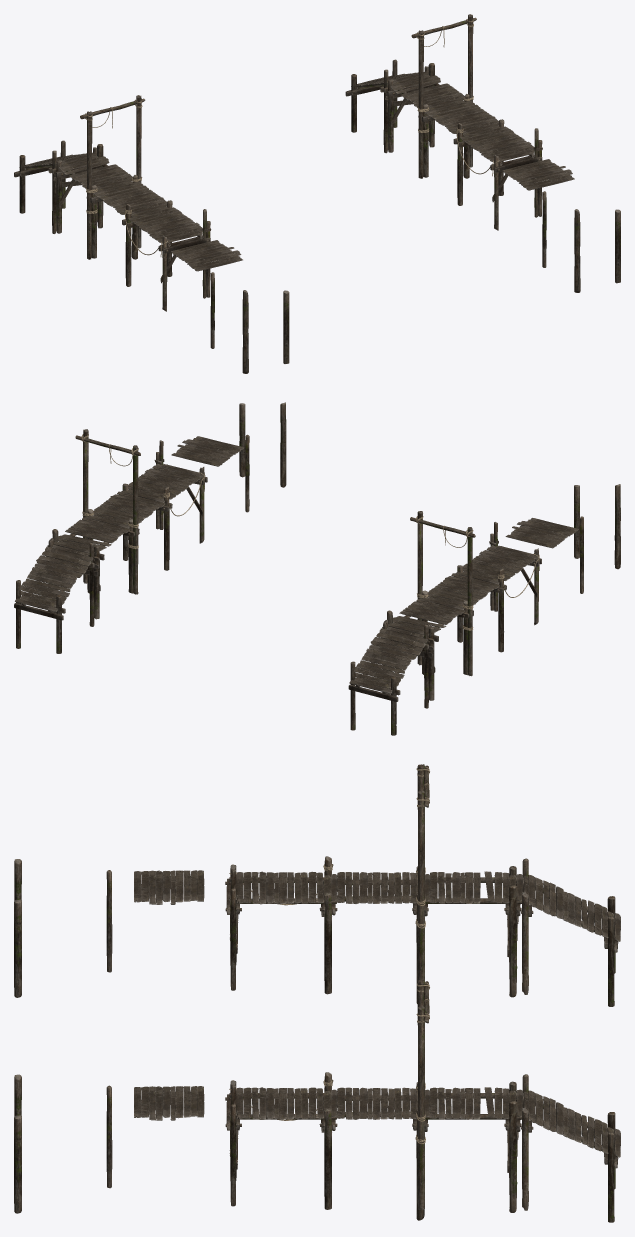
The model's file is pier.glb.
3 renders of one model, top to bottom at view 1: azimuth 30°, elevation 25°; view 2: azimuth 150°, elevation 25°; view 3: azimuth 270°, elevation 25°, orthographic. The views are drawn at different scales.
Visible parts, largest first — view 1: modular_wooden_pier_section_01.002, modular_wooden_pier_section_01.001, modular_wooden_pier_section_03.001, modular_wooden_pier_section_03.002, modular_wooden_pier_section_02.001, modular_wooden_pier_section_02.002, modular_wooden_pier_section_05.001, modular_wooden_pier_section_05.002, modular_wooden_pier_section_04.002, modular_wooden_pier_poles.002, modular_wooden_pier_section_04.001, modular_wooden_pier_poles.001 (+2 smaller); view 2: modular_wooden_pier_section_04.002, modular_wooden_pier_section_04.001, modular_wooden_pier_section_01.001, modular_wooden_pier_section_01.002, modular_wooden_pier_section_03.002, modular_wooden_pier_section_03.001, modular_wooden_pier_section_02.002, modular_wooden_pier_section_02.001, modular_wooden_pier_section_05.002, modular_wooden_pier_section_05.001, modular_wooden_pier_poles.001, modular_wooden_pier_planks.001 (+2 smaller); view 3: modular_wooden_pier_section_01.001, modular_wooden_pier_section_01.002, modular_wooden_pier_section_04.002, modular_wooden_pier_section_04.001, modular_wooden_pier_section_03.001, modular_wooden_pier_section_03.002, modular_wooden_pier_section_02.001, modular_wooden_pier_section_02.002, modular_wooden_pier_planks.001, modular_wooden_pier_planks.002, modular_wooden_pier_section_05.001, modular_wooden_pier_section_05.002 (+2 smaller).
Part boxes in pixels (x1,y1,x2,y2): modular_wooden_pier_section_01.002: [122, 200, 211, 311]; modular_wooden_pier_section_01.001: [453, 119, 542, 230]; modular_wooden_pier_section_03.001: [383, 63, 464, 152]; modular_wooden_pier_section_03.002: [52, 144, 132, 233]; modular_wooden_pier_section_02.001: [418, 94, 498, 178]; modular_wooden_pier_section_02.002: [86, 175, 167, 259]; modular_wooden_pier_section_05.001: [411, 14, 476, 178]; modular_wooden_pier_section_05.002: [80, 95, 145, 259]; modular_wooden_pier_section_04.002: [14, 140, 97, 233]; modular_wooden_pier_poles.002: [210, 272, 289, 373]; modular_wooden_pier_section_04.001: [345, 59, 429, 153]; modular_wooden_pier_poles.001: [542, 191, 620, 292]; modular_wooden_pier_section_04.002: [348, 619, 428, 735]; modular_wooden_pier_section_04.001: [14, 538, 94, 653]; modular_wooden_pier_section_01.001: [121, 440, 207, 570]; modular_wooden_pier_section_01.002: [455, 522, 541, 652]; modular_wooden_pier_section_03.002: [382, 599, 464, 700]; modular_wooden_pier_section_03.001: [47, 517, 130, 619]; modular_wooden_pier_section_02.002: [421, 573, 499, 675]; modular_wooden_pier_section_02.001: [87, 491, 165, 593]; modular_wooden_pier_section_05.002: [410, 511, 475, 676]; modular_wooden_pier_section_05.001: [75, 429, 140, 594]; modular_wooden_pier_poles.001: [239, 402, 286, 512]; modular_wooden_pier_planks.001: [171, 436, 244, 466]; modular_wooden_pier_section_01.001: [225, 1072, 337, 1209]; modular_wooden_pier_section_01.002: [225, 856, 337, 994]; modular_wooden_pier_section_04.002: [521, 858, 620, 1006]; modular_wooden_pier_section_04.001: [521, 1074, 620, 1222]; modular_wooden_pier_section_03.001: [416, 1081, 523, 1212]; modular_wooden_pier_section_03.002: [416, 866, 523, 997]; modular_wooden_pier_section_02.001: [323, 1082, 430, 1220]; modular_wooden_pier_section_02.002: [323, 866, 430, 1003]; modular_wooden_pier_planks.001: [134, 1086, 204, 1120]; modular_wooden_pier_planks.002: [134, 870, 204, 904]; modular_wooden_pier_section_05.001: [415, 980, 429, 1209]; modular_wooden_pier_section_05.002: [415, 764, 429, 981].
Size of the model in its own units: 19.1 by 7.52 by 19.03.
Materials: 3 (3 with a texture image).
